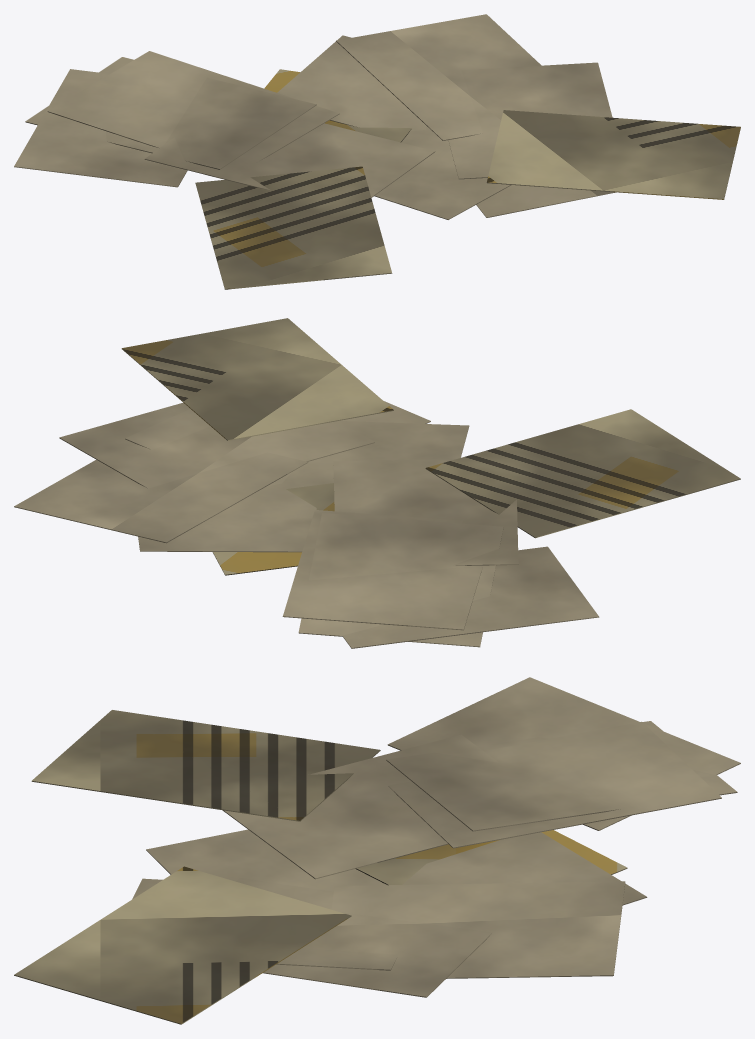
File: D01_scattered_papers_v3.glb
3 renders of one model, top to bottom at view 1: azimuth 30°, elevation 25°; view 2: azimuth 150°, elevation 25°; view 3: azimuth 270°, elevation 25°, orthographic. The views are drawn at different scales.
Parts seen in each view (by area): view 1: D01_scattered_papers_v3; view 2: D01_scattered_papers_v3; view 3: D01_scattered_papers_v3.
Part boxes in pixels (box(x1,y1,x2,y2)): D01_scattered_papers_v3: box(14, 14, 740, 289); D01_scattered_papers_v3: box(14, 318, 740, 648); D01_scattered_papers_v3: box(14, 677, 740, 1024).
Size of the model in its own units: 0.5 by 0.019 by 0.4408.
Materials: 2 (2 with a texture image).
